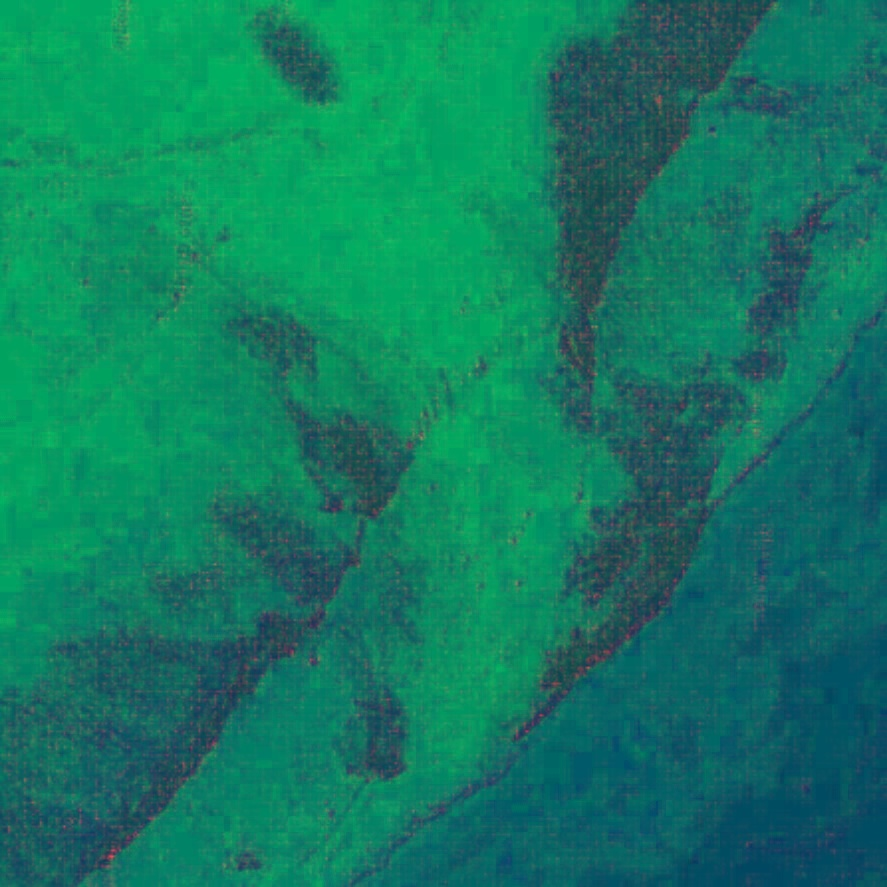rip_current: (168, 73, 622, 745)
